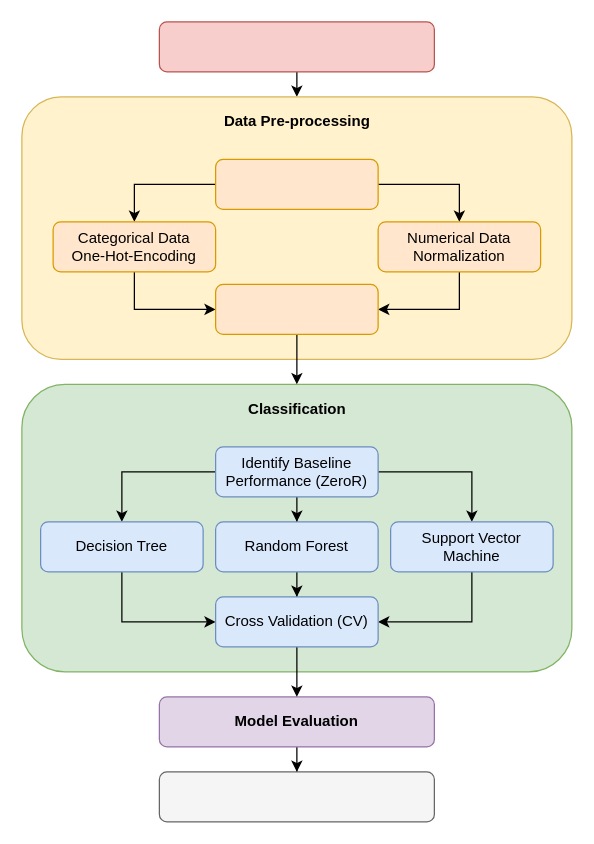
This 594x844 diagram has some shape labels left out. The centre of each missing label's shape, as x and y in pixels:
"Data Acquisition" belongs at [296,46].
"Data Splitting" belongs at [296,308].
"Identify Missing Value" belongs at [296,183].
"Result & Discussion" belongs at [296,796].
